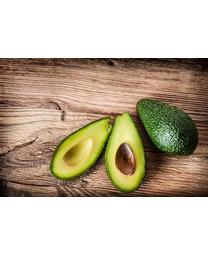avocado: (50, 117, 113, 181), (135, 98, 198, 156), (106, 113, 147, 192)
